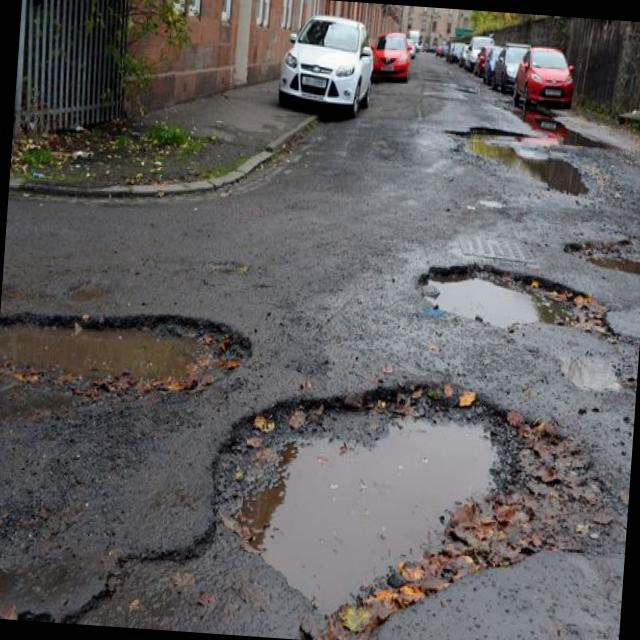bad-road: (197, 361, 623, 640), (0, 297, 254, 399), (17, 516, 204, 632), (410, 258, 640, 340), (561, 231, 640, 274), (442, 120, 538, 148)
